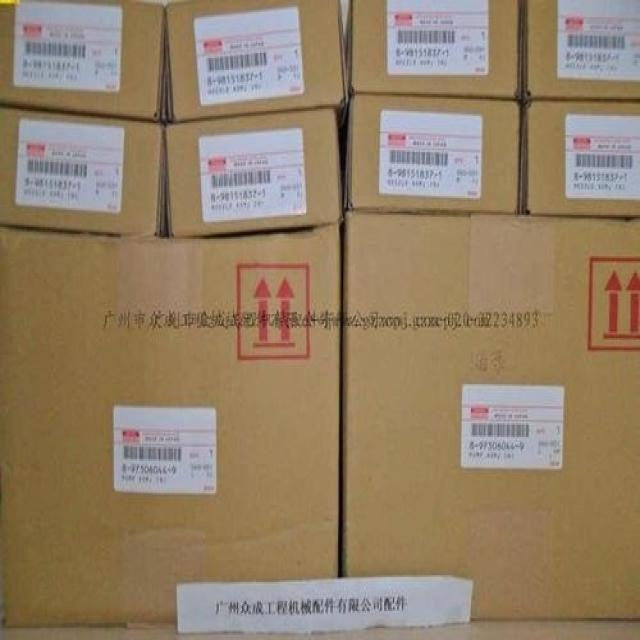box: (0, 220, 344, 628), (340, 212, 639, 622), (165, 0, 348, 135), (337, 94, 526, 217), (166, 107, 344, 237), (0, 104, 167, 237), (0, 3, 167, 123), (343, 0, 523, 100), (522, 100, 639, 218), (522, 0, 638, 102)
